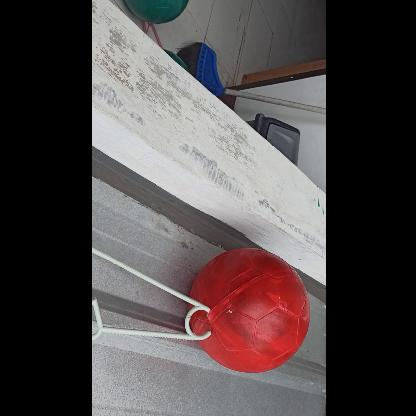red_ball: (186, 251, 310, 375)
